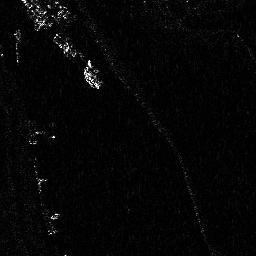ship: (53, 33, 76, 57)
